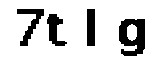7: (12, 6, 45, 49)
I: (82, 5, 105, 52)
g: (115, 14, 149, 60)
t: (45, 12, 70, 48)
